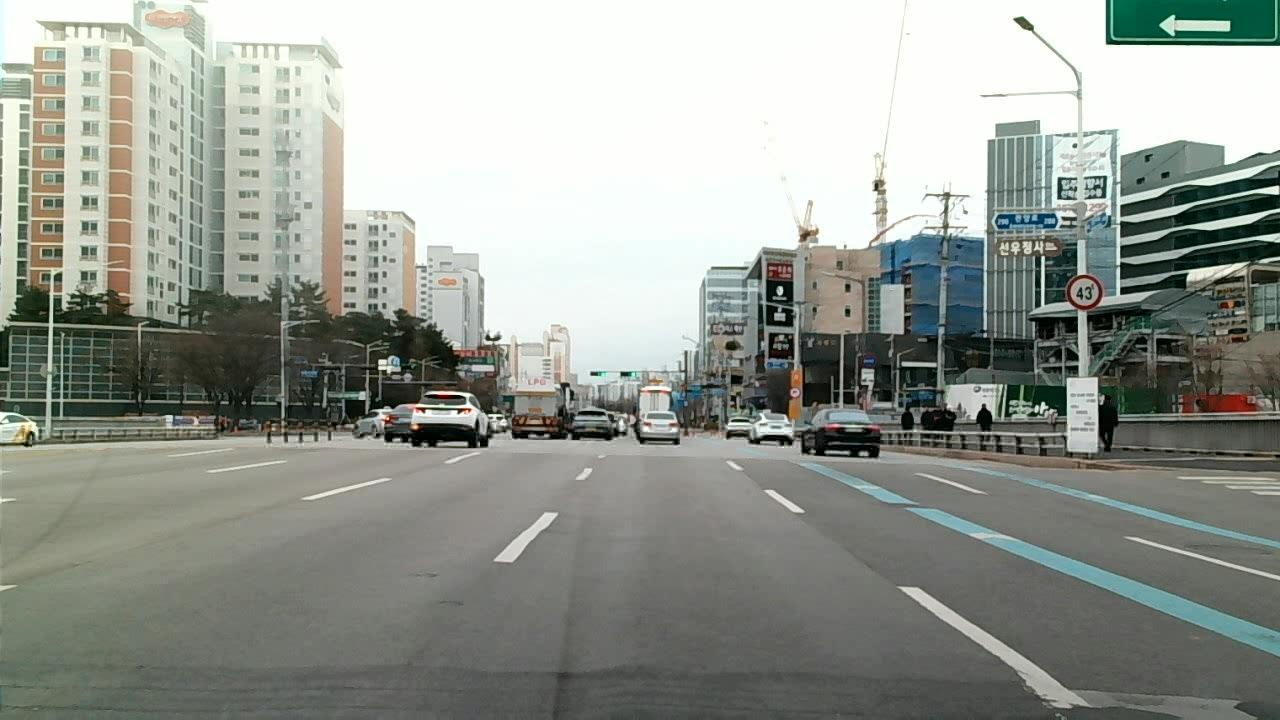erosion: (6, 654, 1010, 720)
